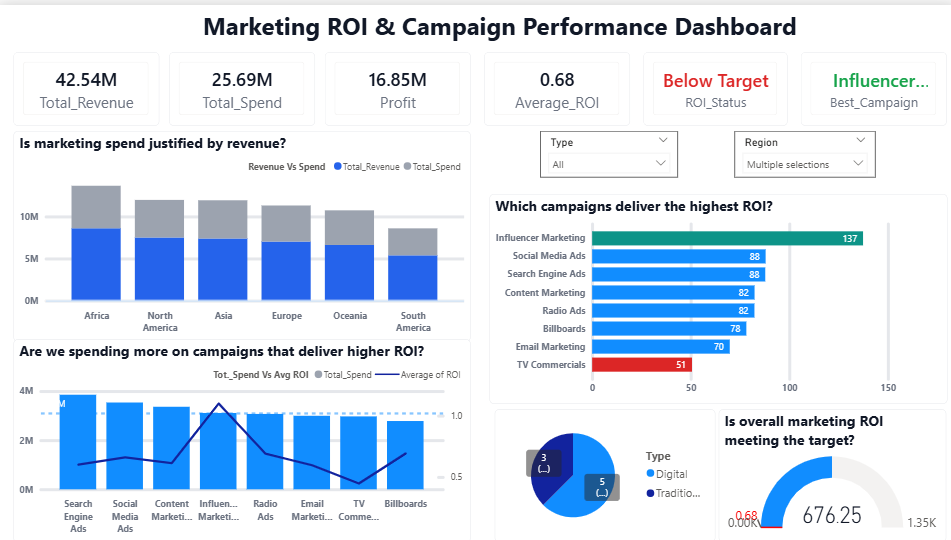

The page's visual inventory and layout, read from the dashboard file:
{"tool":"powerbi","page":{"name":"Marketing Campaign","canvas":[1280,720],"ordinal":0},"visuals":[{"type":"columnChart","title":"Is marketing spend justified by revenue?","fields":{"Category":["marketing campaign performance.Region"],"Y":["marketing campaign performance.Total_Revenue","marketing campaign performance.Total_Spend"]},"box":[24,168,607.5,280],"z":0},{"type":"lineClusteredColumnComboChart","title":"Are we spending more on campaigns that deliver higher ROI?","fields":{"Category":["marketing campaign performance.Campaign_Name"],"Y":["marketing campaign performance.Total_Spend"],"Y2":["Avg(marketing campaign performance.ROI)"]},"box":[24,445,607.5,270],"z":1000},{"type":"clusteredBarChart","title":"Which campaigns deliver the highest ROI?","fields":{"Category":["marketing campaign performance.Campaign_Name"],"Y":["Sum(marketing campaign performance.ROI)"]},"box":[655.3,251.1,608.5,278.7],"z":2000},{"type":"pieChart","fields":{"Category":["marketing campaign details.Type"],"Y":["CountNonNull(marketing campaign details.Campaign_Name)"]},"box":[662.8,537.2,293,176.7],"z":3000},{"type":"gauge","title":"Is overall marketing ROI meeting the target?","fields":{"TargetValue":["Avg(marketing campaign performance.ROI)"],"Y":["Sum(marketing campaign performance.ROI)"]},"box":[960.5,537.2,302.3,176.7],"z":4000},{"type":"cardVisual","fields":{"Data":["marketing campaign performance.Total_Revenue"]},"box":[23.4,61.7,193.6,97.9],"z":5000},{"type":"cardVisual","fields":{"Data":["marketing campaign performance.Total_Spend"]},"box":[229.8,61.7,193.6,97.9],"z":6000},{"type":"cardVisual","fields":{"Data":["marketing campaign performance.Average_ROI"]},"box":[648.9,61.7,193.6,97.9],"z":7000},{"type":"cardVisual","fields":{"Data":["marketing campaign performance.Best_Campaign"]},"box":[1070.2,61.7,193.6,97.9],"z":8000},{"type":"slicer","fields":{"Values":["marketing campaign performance.Region"]},"box":[980.9,168.1,187.2,61.7],"z":9000},{"type":"slicer","fields":{"Values":["marketing campaign details.Type"]},"box":[723.4,168.1,183,61.7],"z":10000},{"type":"cardVisual","fields":{"Data":["marketing campaign performance.Profit"]},"box":[438.3,61.7,193.6,97.9],"z":11000},{"type":"cardVisual","fields":{"Data":["marketing campaign performance.ROI_Status"]},"box":[859.6,61.7,191.5,97.9],"z":12000},{"type":"textbox","box":[189.4,0,880.9,59.6],"z":13000}]}

Visuals, with their boxes in screenshot pixels (x1, y1, x2, y2), scaled from the page's 1280x720 canvas onto the 951x540 screenshot:
"Is marketing spend justified by revenue?" columnChart: detection(18, 126, 469, 336)
"Are we spending more on campaigns that deliver higher ROI?" lineClusteredColumnComboChart: detection(18, 334, 469, 536)
"Which campaigns deliver the highest ROI?" clusteredBarChart: detection(487, 188, 939, 397)
pieChart - marketing campaign details.Type x CountNonNull(marketing campaign details.Campaign_Name): detection(492, 403, 710, 535)
"Is overall marketing ROI meeting the target?" gauge: detection(714, 403, 938, 535)
cardVisual - marketing campaign performance.Total_Revenue: detection(17, 46, 161, 120)
cardVisual - marketing campaign performance.Total_Spend: detection(171, 46, 315, 120)
cardVisual - marketing campaign performance.Average_ROI: detection(482, 46, 626, 120)
cardVisual - marketing campaign performance.Best_Campaign: detection(795, 46, 939, 120)
slicer - marketing campaign performance.Region: detection(729, 126, 868, 172)
slicer - marketing campaign details.Type: detection(537, 126, 673, 172)
cardVisual - marketing campaign performance.Profit: detection(326, 46, 469, 120)
cardVisual - marketing campaign performance.ROI_Status: detection(639, 46, 781, 120)
textbox: detection(141, 0, 795, 45)
